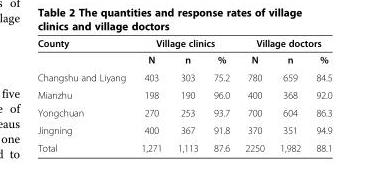table: (36, 37, 331, 153)
table column: (36, 37, 132, 153), (132, 37, 169, 153), (169, 37, 205, 153), (271, 37, 307, 153), (236, 37, 271, 153), (205, 37, 236, 153), (307, 37, 331, 153)
table column header: (36, 37, 331, 68)
table row: (36, 85, 331, 103), (36, 103, 331, 121), (36, 51, 331, 68), (36, 68, 331, 85), (36, 121, 331, 138), (36, 138, 331, 153), (36, 37, 331, 51)
table spanning cell: (36, 37, 132, 68), (132, 37, 236, 51), (236, 37, 331, 51)
